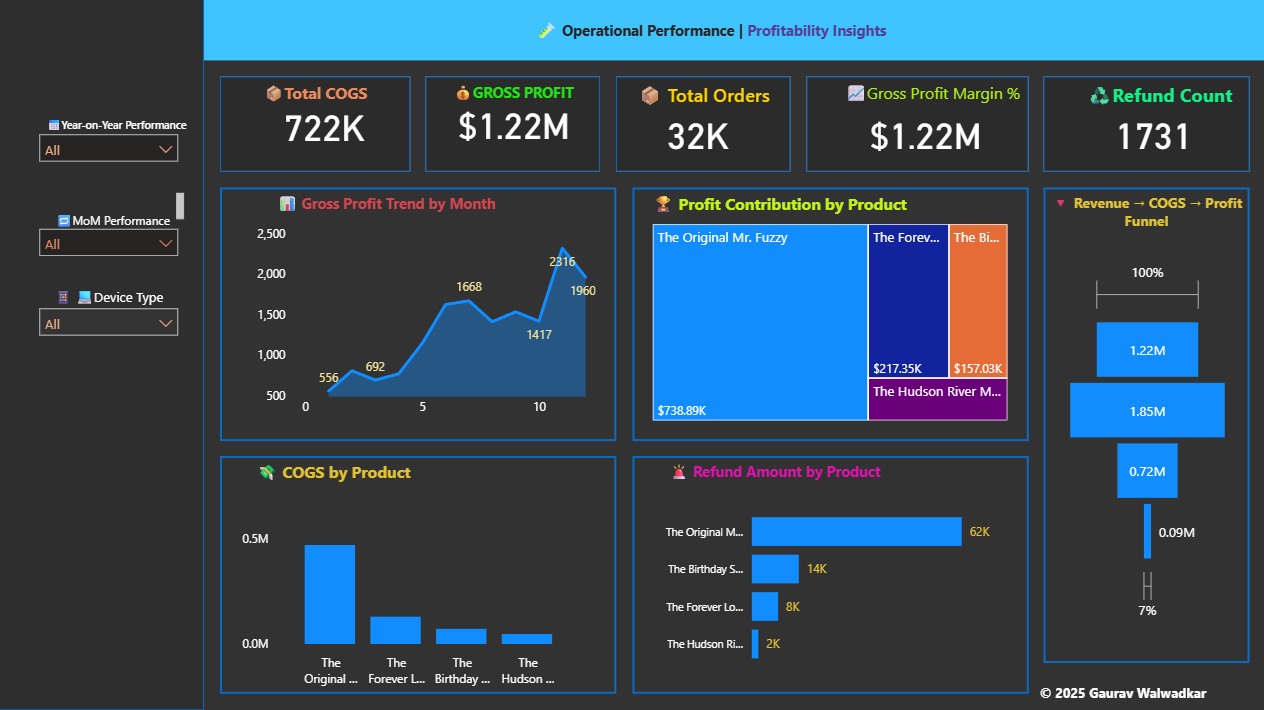

The dashboard page shown, as its layout file describes it:
{"tool":"powerbi","page":{"name":"PRODUCT & CATEGORY PERFORMANCE","canvas":[1280,720],"ordinal":1},"visuals":[{"type":"shape","box":[224,80,192,96],"z":0,"group":"g1"},{"type":"shape","box":[432,80,176,96],"z":0,"group":"g2"},{"type":"shape","box":[624,80,176,96],"z":0,"group":"g3"},{"type":"shape","box":[816,80,224,96],"z":0,"group":"g4"},{"type":"shape","box":[1056,80,208,96],"z":0,"group":"g5"},{"type":"shape","box":[224,192,400,256],"z":0,"group":"g6"},{"type":"shape","box":[224,464,400,240],"z":0,"group":"g7"},{"type":"shape","box":[640,464,400,240],"z":0},{"type":"textbox","box":[224,80,192,96],"z":1000,"group":"g1"},{"type":"textbox","box":[635.7,80,152.5,80],"z":1000,"group":"g3"},{"type":"textbox","box":[845.9,80,194.1,80],"z":1000,"group":"g4"},{"type":"textbox","box":[1083.7,80,180.3,80],"z":1000,"group":"g5"},{"type":"shape","box":[640,192,400,256],"z":1000},{"type":"columnChart","fields":{"Category":["Dim_Products.product_name"],"Y":["Measure.COGS by Product"]},"box":[240,512,352,192],"z":1000,"group":"g7"},{"type":"shape","box":[208,0,1072,64],"z":2000},{"type":"card","fields":{"Values":["Measure.Total COGS"]},"box":[240,96,176,64],"z":2000,"group":"g1"},{"type":"card","fields":{"Values":["Measure.Total Orders"]},"box":[624,96,164.3,80],"z":2000,"group":"g3"},{"type":"card","fields":{"Values":["Measure.Gross Profit"]},"box":[830.9,96,209.1,80],"z":2000,"group":"g4"},{"type":"card","fields":{"Values":["Measure.Refund Count"]},"box":[1069.9,96,194.1,80],"z":2000,"group":"g5"},{"type":"textbox","box":[256,464,288,32],"z":2000,"group":"g7"},{"type":"textbox","box":[512,16,416,48],"z":3000},{"type":"group","id":"g1","title":"Group 1","box":[224,80,192,96],"z":4000},{"type":"group","id":"g2","title":"Group 1","box":[432,80,176,96],"z":5000},{"type":"group","id":"g3","title":"Group 1","box":[624,80,176,96],"z":6000},{"type":"group","id":"g4","title":"Group 1","box":[816,80,224,112],"z":7000},{"type":"group","id":"g5","title":"Group 1","box":[1056,80,208,96],"z":8000},{"type":"shape","box":[0,0,208,720],"z":9000},{"type":"slicer","fields":{"Values":["Date.Year"]},"box":[32,128,160,48],"z":10000},{"type":"textbox","box":[32,96,176,64],"z":11000},{"type":"textbox","box":[48,192,144,48],"z":12000,"group":"g8"},{"type":"slicer","fields":{"Values":["Dim_WebsiteSessions.device_type"]},"box":[32,304,160,48],"z":12000},{"type":"slicer","fields":{"Values":["Date.Month"]},"box":[32,224,160,48],"z":13000,"group":"g8"},{"type":"textbox","box":[32,288,160,32],"z":13000},{"type":"textbox","box":[992,688,288,32],"z":14000},{"type":"textbox","box":[448,80,144,32],"z":15000},{"type":"card","fields":{"Values":["Measure.Gross Profit"]},"box":[448,96,144,64],"z":16000},{"type":"group","id":"g6","title":"Group 2","box":[224,192,400,256],"z":17000},{"type":"areaChart","fields":{"Y":["Measure.Gross Profit By Month"],"Category":["Date.Month No"]},"box":[256,224,352,208],"z":18000,"group":"g6"},{"type":"textbox","box":[672,464,288,32],"z":18000},{"type":"textbox","box":[224,192,336,48],"z":19000,"group":"g6"},{"type":"treemap","fields":{"Group":["Dim_Products.product_name"],"Values":["Measure.Gross Profit"]},"box":[656,224,368,208],"z":19000},{"type":"textbox","box":[656,192,288,32],"z":20000},{"type":"group","id":"g7","title":"Group 3","box":[224,464,400,240],"z":21000},{"type":"clusteredBarChart","fields":{"Category":["Dim_Products.product_name"],"Y":["Measure.Refund Amount by Product"]},"box":[656,496,368,192],"z":22000},{"type":"group","id":"g8","title":"Group 4","box":[32,192,160,80],"z":23000},{"type":"shape","box":[1056,192,208,480],"z":24000},{"type":"funnel","fields":{"Y":["Measure.Profit by Product","Measure.Net Revenue","Measure.COGS by Product","Measure.Refund Amount"]},"box":[1072,240,176,416],"z":25000},{"type":"textbox","box":[1056,192,208,48],"z":26000}]}

Visuals, with their boxes in screenshot pixels (x1, y1, x2, y2), scaled from the page's 1280x720 canvas onto the 1264x710 screenshot:
shape: BBox(221, 79, 411, 174)
shape: BBox(427, 79, 600, 174)
shape: BBox(616, 79, 790, 174)
shape: BBox(806, 79, 1027, 174)
shape: BBox(1043, 79, 1248, 174)
shape: BBox(221, 189, 616, 442)
shape: BBox(221, 458, 616, 694)
shape: BBox(632, 458, 1027, 694)
textbox: BBox(221, 79, 411, 174)
textbox: BBox(628, 79, 778, 158)
textbox: BBox(835, 79, 1027, 158)
textbox: BBox(1070, 79, 1248, 158)
shape: BBox(632, 189, 1027, 442)
columnChart - Dim_Products.product_name x Measure.COGS by Product: BBox(237, 505, 585, 694)
shape: BBox(205, 0, 1263, 63)
card - Measure.Total COGS: BBox(237, 95, 411, 158)
card - Measure.Total Orders: BBox(616, 95, 778, 174)
card - Measure.Gross Profit: BBox(821, 95, 1027, 174)
card - Measure.Refund Count: BBox(1057, 95, 1248, 174)
textbox: BBox(253, 458, 537, 489)
textbox: BBox(506, 16, 916, 63)
"Group 1" group: BBox(221, 79, 411, 174)
"Group 1" group: BBox(427, 79, 600, 174)
"Group 1" group: BBox(616, 79, 790, 174)
"Group 1" group: BBox(806, 79, 1027, 189)
"Group 1" group: BBox(1043, 79, 1248, 174)
shape: BBox(0, 0, 205, 709)
slicer - Date.Year: BBox(32, 126, 190, 174)
textbox: BBox(32, 95, 205, 158)
textbox: BBox(47, 189, 190, 237)
slicer - Dim_WebsiteSessions.device_type: BBox(32, 300, 190, 347)
slicer - Date.Month: BBox(32, 221, 190, 268)
textbox: BBox(32, 284, 190, 316)
textbox: BBox(980, 678, 1263, 709)
textbox: BBox(442, 79, 585, 110)
card - Measure.Gross Profit: BBox(442, 95, 585, 158)
"Group 2" group: BBox(221, 189, 616, 442)
areaChart - Measure.Gross Profit By Month x Date.Month No: BBox(253, 221, 600, 426)
textbox: BBox(664, 458, 948, 489)
textbox: BBox(221, 189, 553, 237)
treemap - Dim_Products.product_name x Measure.Gross Profit: BBox(648, 221, 1011, 426)
textbox: BBox(648, 189, 932, 221)
"Group 3" group: BBox(221, 458, 616, 694)
clusteredBarChart - Dim_Products.product_name x Measure.Refund Amount by Product: BBox(648, 489, 1011, 678)
"Group 4" group: BBox(32, 189, 190, 268)
shape: BBox(1043, 189, 1248, 663)
funnel - Measure.Profit by Product x Measure.Net Revenue: BBox(1059, 237, 1232, 647)
textbox: BBox(1043, 189, 1248, 237)
